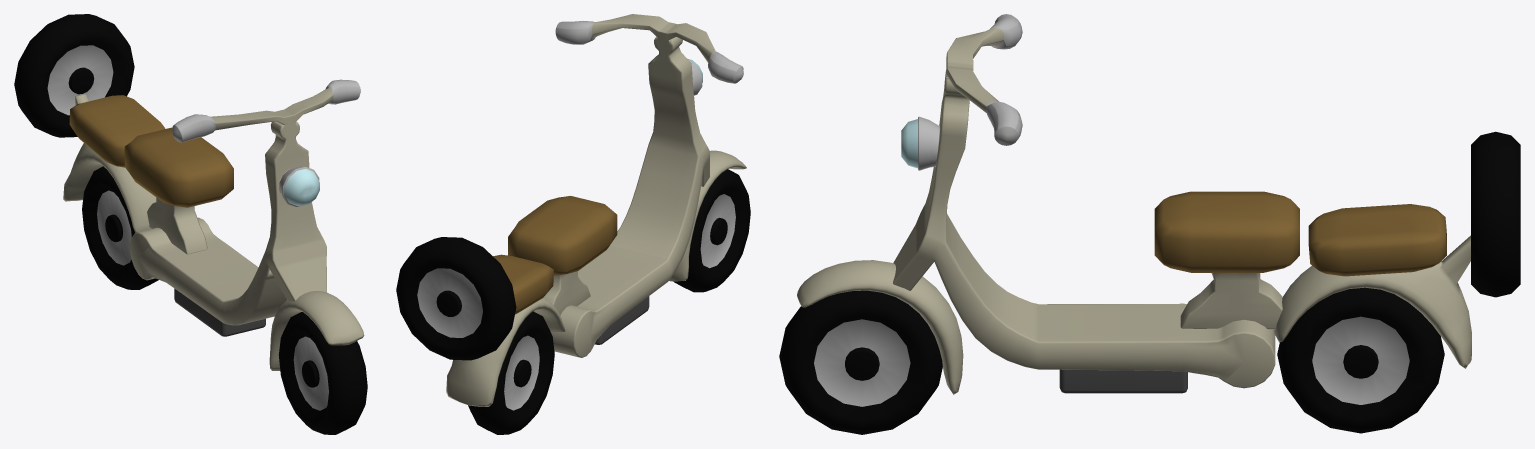
Rendered from scooter.fbx.
3 views of the same model, side by side, from view 1: azimuth 30°, elevation 25°; view 2: azimuth 150°, elevation 25°; view 3: azimuth 270°, elevation 25° (orthographic). The views are drawn at different scales.
Visible parts, largest first — view 1: pCylinder3; view 2: pCylinder3; view 3: pCylinder3.
Boxes of the visible parts, box(x1,y1,x2,y2) form: pCylinder3: box(14, 14, 367, 434); pCylinder3: box(396, 14, 750, 434); pCylinder3: box(779, 14, 1520, 434).
Size of the model in its own units: 124 by 186 by 336.
